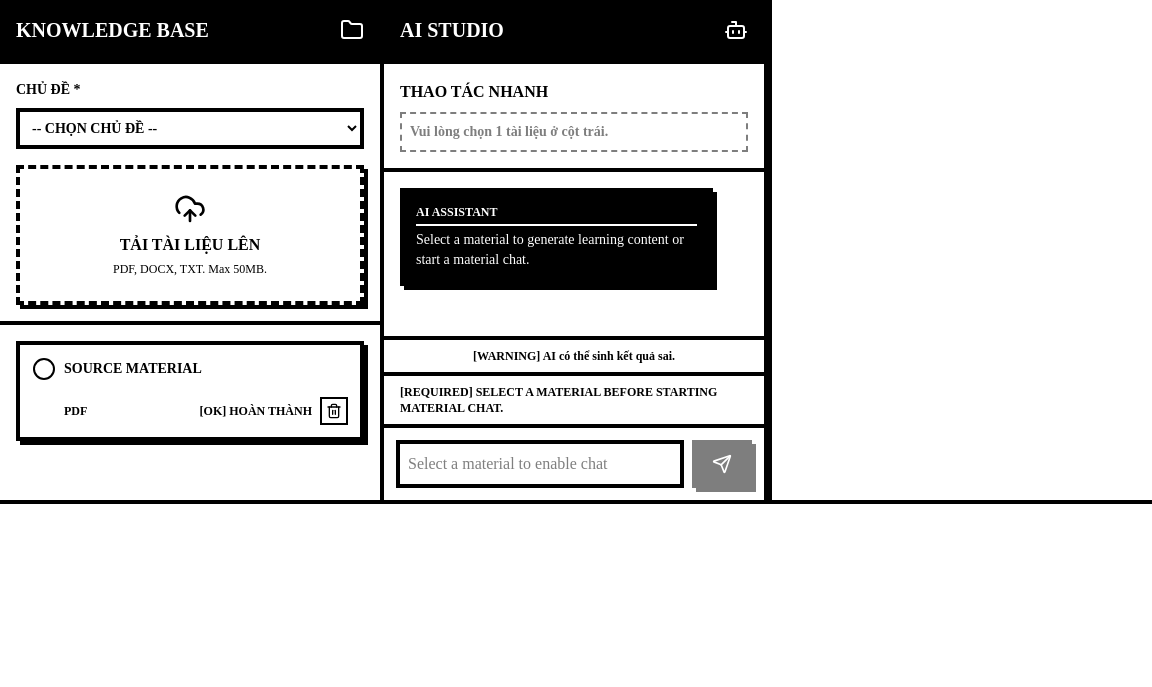
AI workspace stream failures › reports a sanitized provider error event immediately
The image size is (1152, 687).
Click the text "Source material": point(133, 368) [64,361,202,376]
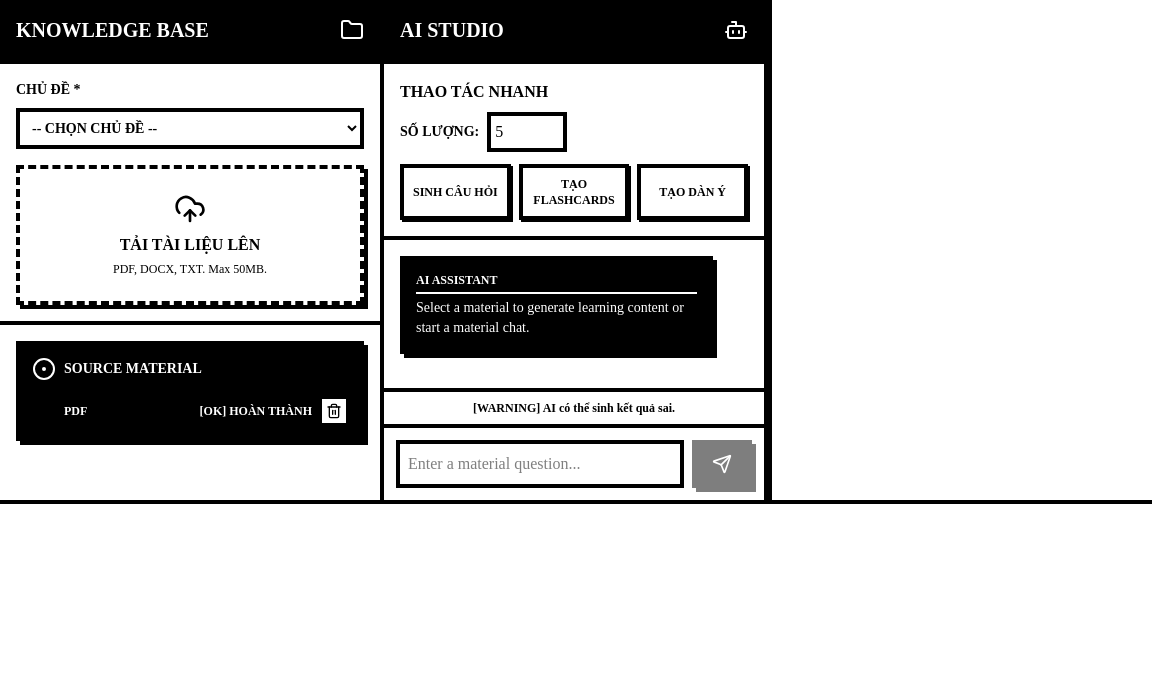
In the field with placeholder "Enter a material question...": point(540, 464) [396,440,684,488], type "Create a quiz"
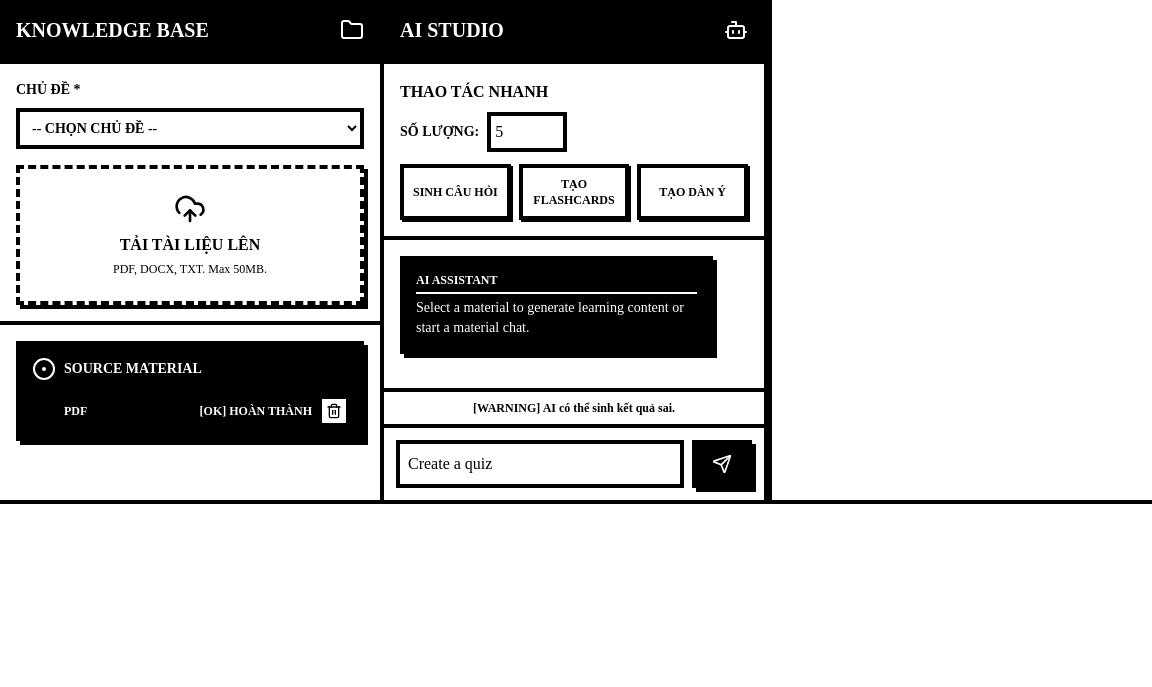
Submit the form with placeholder "Enter a material question...", box [384,424,764,500]
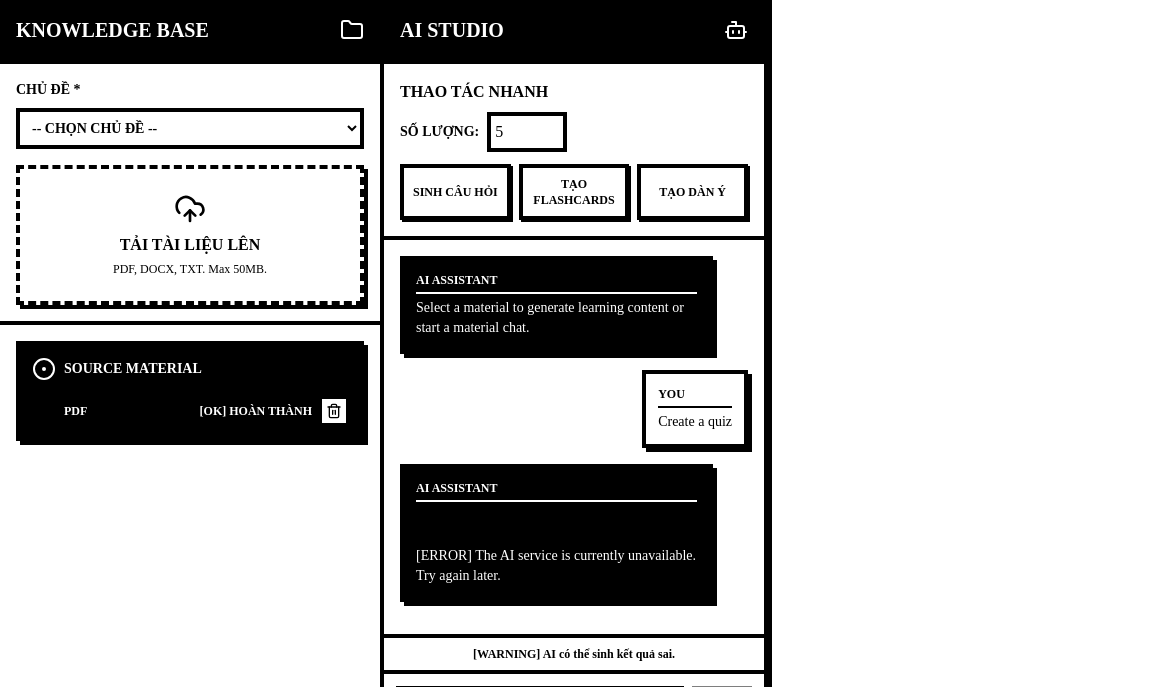
Check: the text "The AI service is currently unavailable" is shown, box [416,548,699,583]
